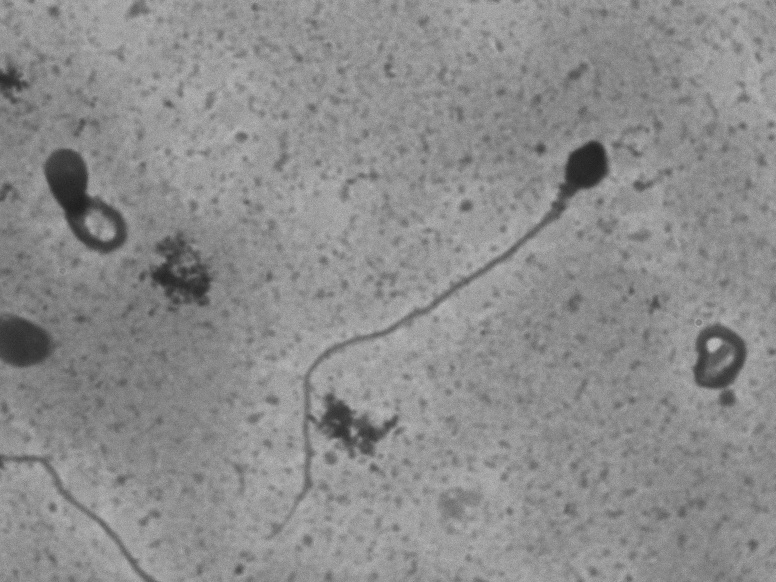Abnormal: (282, 128, 625, 492), (19, 120, 140, 297)
